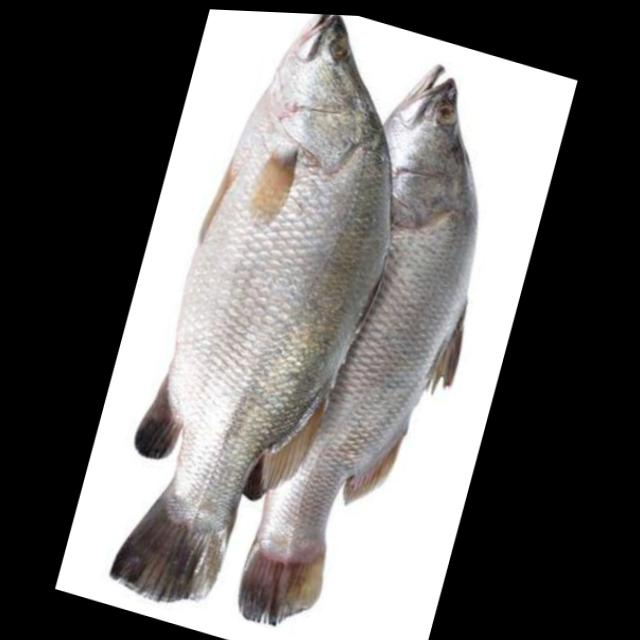Seabass: (95, 5, 447, 640), (229, 39, 533, 640)
